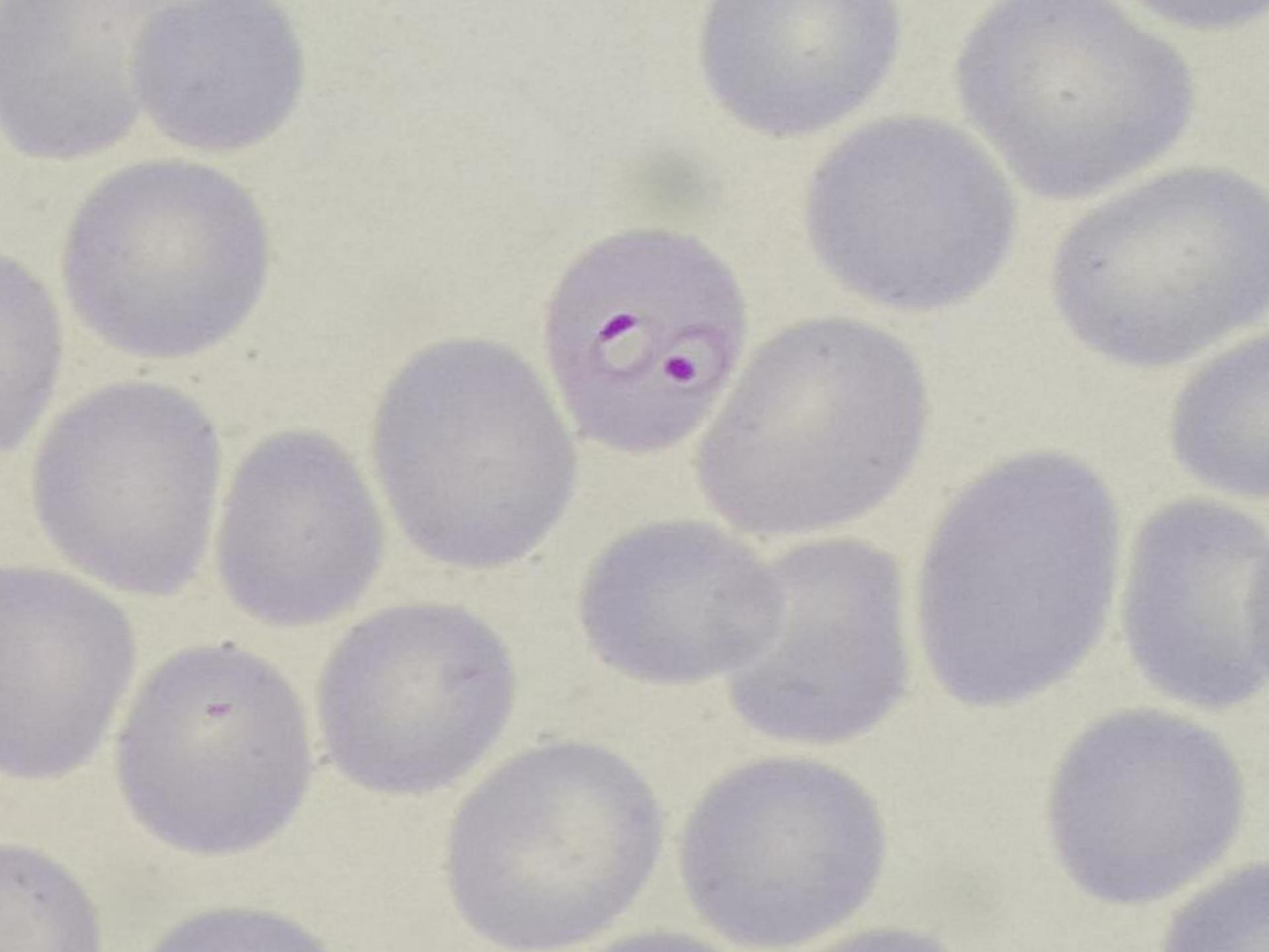Infected: (547, 227, 749, 454)
Uninfected: (917, 450, 1117, 713), (375, 339, 577, 570), (704, 321, 926, 530), (957, 0, 1195, 192), (449, 744, 662, 948), (1058, 169, 1269, 365), (64, 159, 265, 359), (808, 113, 1013, 308), (117, 648, 309, 854), (31, 382, 216, 591), (682, 758, 886, 947), (720, 543, 906, 738), (326, 606, 512, 791), (1056, 715, 1243, 899), (583, 526, 786, 682), (220, 430, 381, 622), (0, 568, 136, 783), (1127, 502, 1268, 705), (702, 0, 897, 138), (131, 7, 298, 150)
